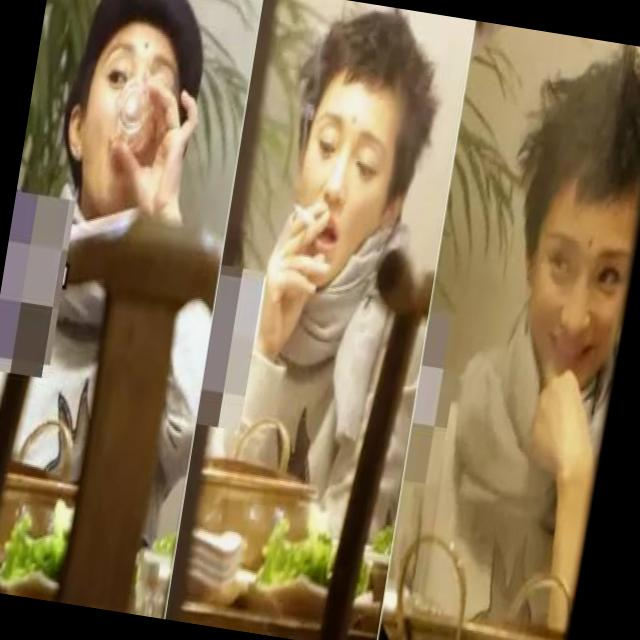cigarette: (288, 200, 319, 236)
